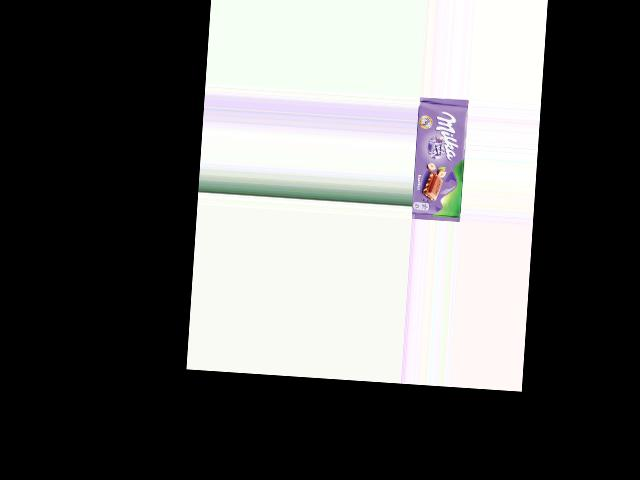chocolate: (410, 97, 468, 222)
